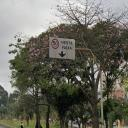speed_limit_50: (51, 38, 59, 50)
